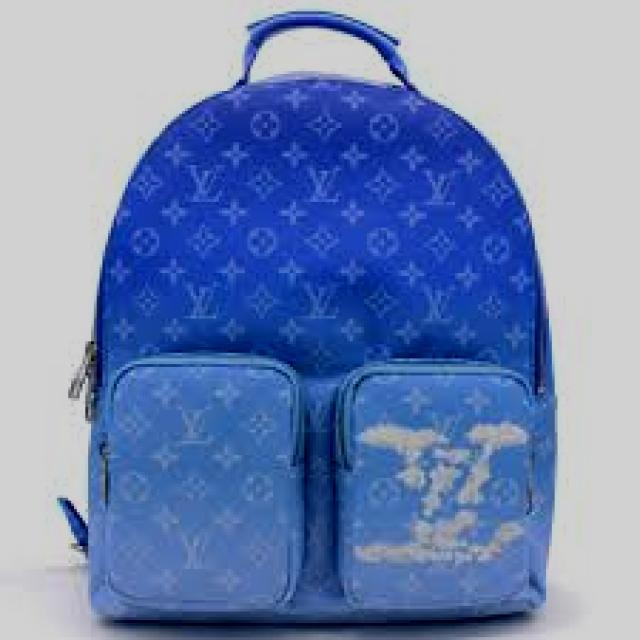backpack: (58, 10, 558, 627)
